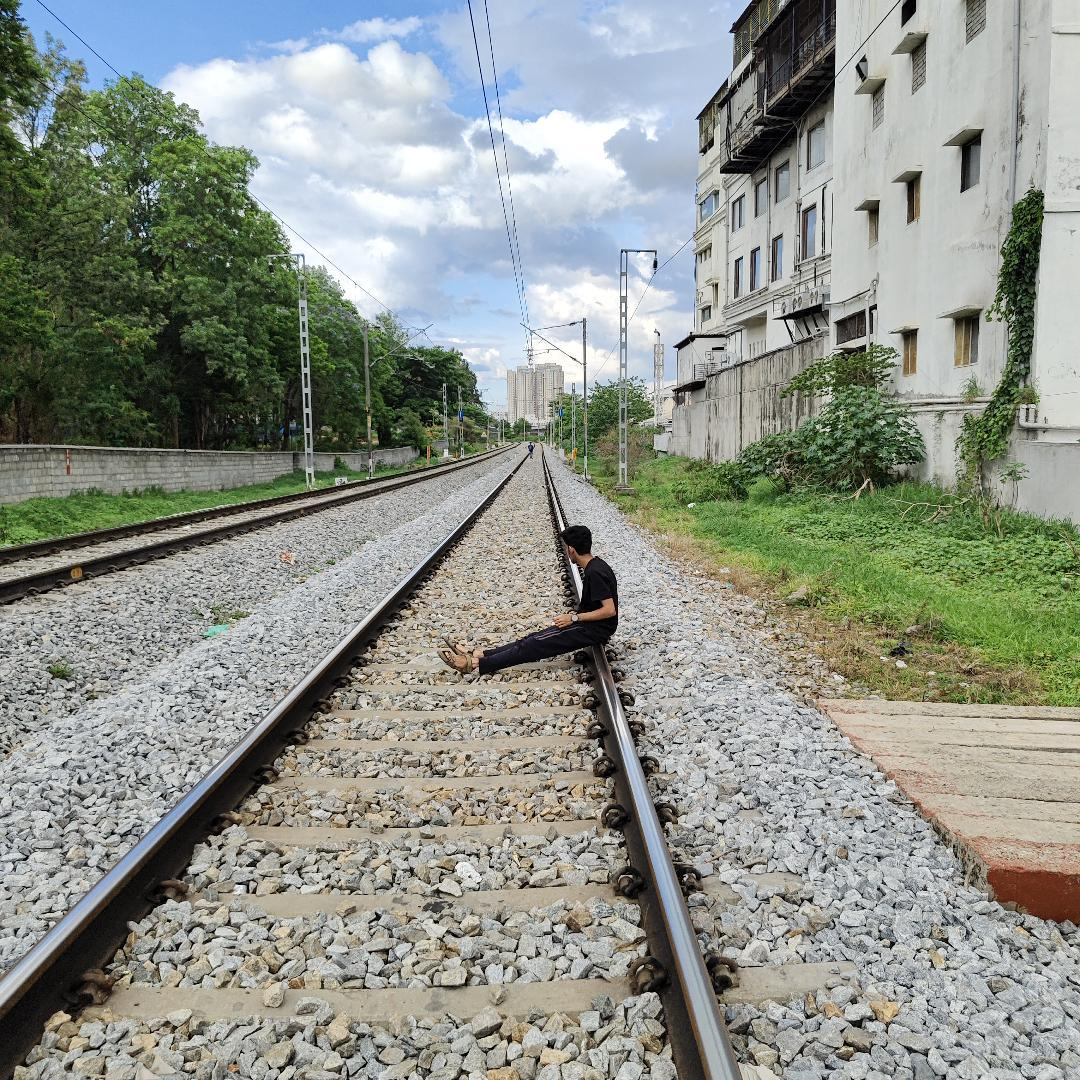sitting: (464, 528, 626, 674)
